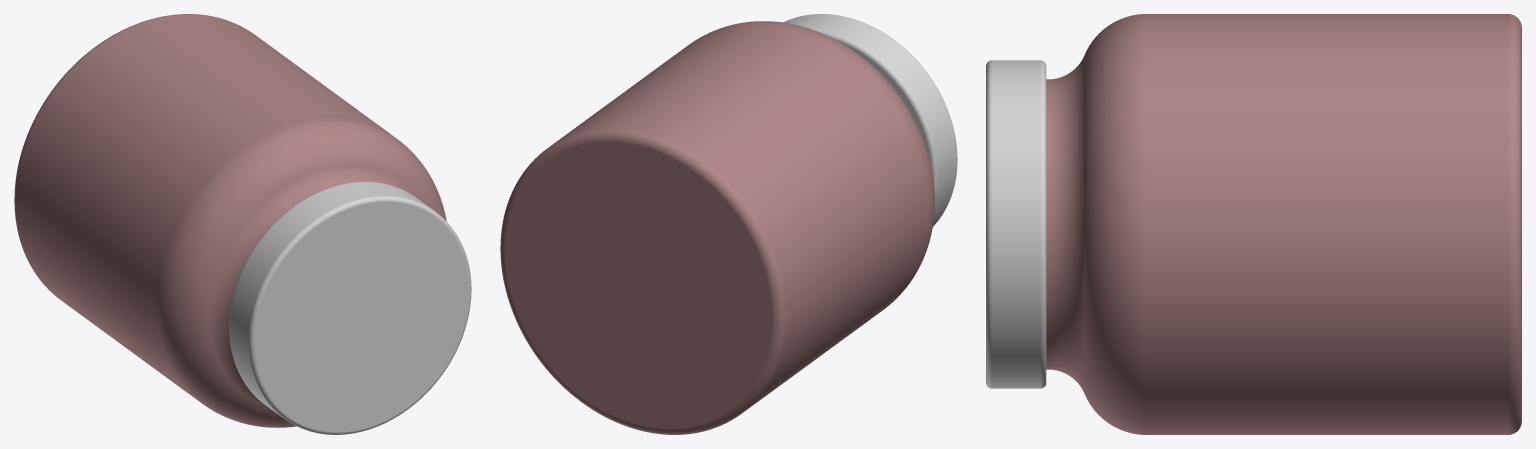
Rendered from bottle_mockup.gltf.
The picture shows the model from 3 angles, left to right: view 1: azimuth 30°, elevation 25°; view 2: azimuth 150°, elevation 25°; view 3: azimuth 270°, elevation 25°; orthographic projection. The views are drawn at different scales.
Parts seen in each view (by area): view 1: Part 1, Part 2; view 2: Part 1, Part 2; view 3: Part 1, Part 2.
Part boxes in pixels (x1,y1,x2,y2): Part 1: [14, 14, 446, 427]; Part 2: [229, 181, 471, 434]; Part 1: [500, 21, 934, 434]; Part 2: [783, 14, 957, 226]; Part 1: [1046, 14, 1521, 434]; Part 2: [986, 60, 1046, 388].
Size of the model in its own units: 0.0559 by 0.0559 by 0.0711.
